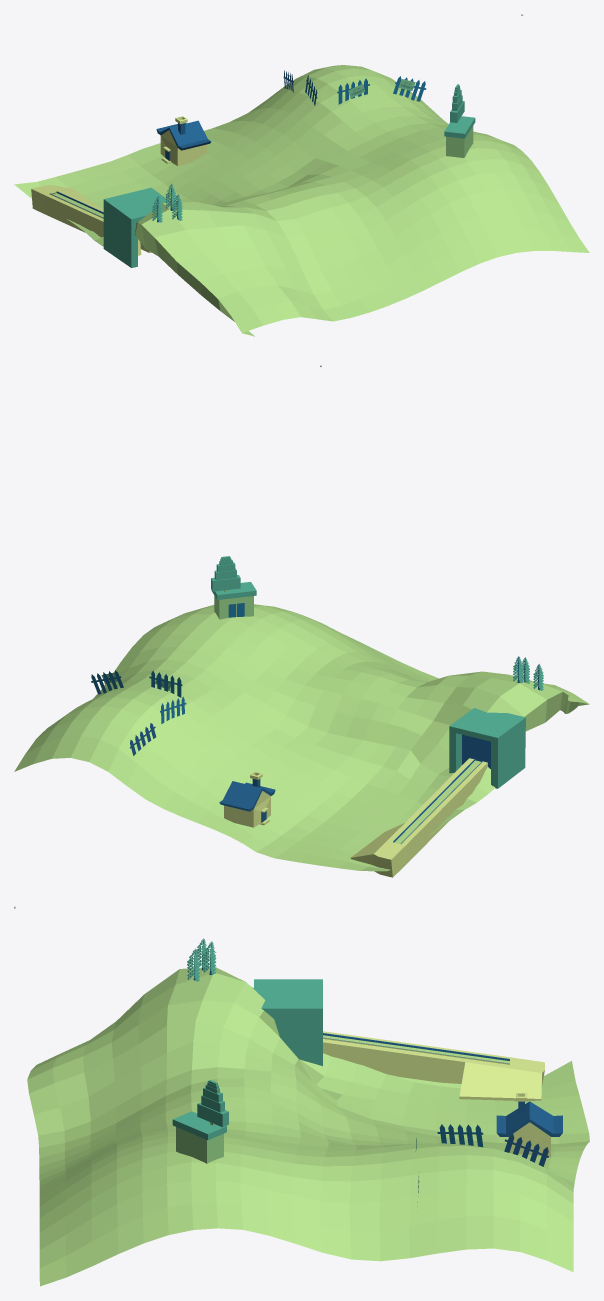
Rendered from tree.glb.
3 views of the same model, one above another, from view 1: azimuth 30°, elevation 25°; view 2: azimuth 150°, elevation 25°; view 3: azimuth 270°, elevation 25° (orthographic). The views are drawn at different scales.
Visible parts, largest first — view 1: Ground, Tunnel, Railway, Cube, Furniture shop; view 2: Ground, Railway, Tunnel, Cube, Furniture shop; view 3: Ground, Railway, Tunnel, Furniture shop, Cube, Plane.002, Plane.003.
Part boxes in pixels (x1,y1,x2,y2): Ground: [14, 65, 589, 336]; Tunnel: [103, 187, 169, 267]; Railway: [31, 185, 151, 255]; Cube: [156, 116, 211, 165]; Furniture shop: [444, 84, 475, 157]; Ground: [14, 604, 589, 871]; Railway: [350, 758, 487, 877]; Tunnel: [449, 708, 525, 788]; Cube: [219, 772, 275, 827]; Furniture shop: [211, 556, 256, 619]; Ground: [27, 967, 589, 1286]; Railway: [323, 1031, 544, 1101]; Tunnel: [254, 979, 322, 1066]; Furniture shop: [172, 1080, 228, 1163]; Cube: [496, 1093, 562, 1156]; Plane.002: [437, 1124, 483, 1147]; Plane.003: [504, 1134, 548, 1166].
Bounding box in the file's own units: 695 × 481 × 716.
9 materials, 1 textured.
